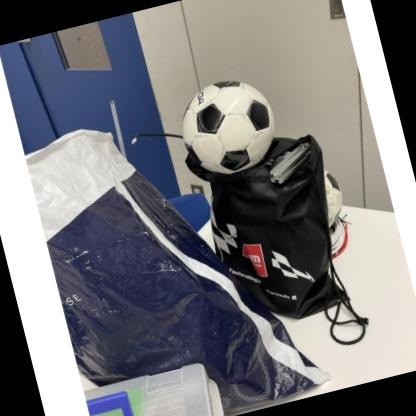ball: (168, 68, 285, 186)
